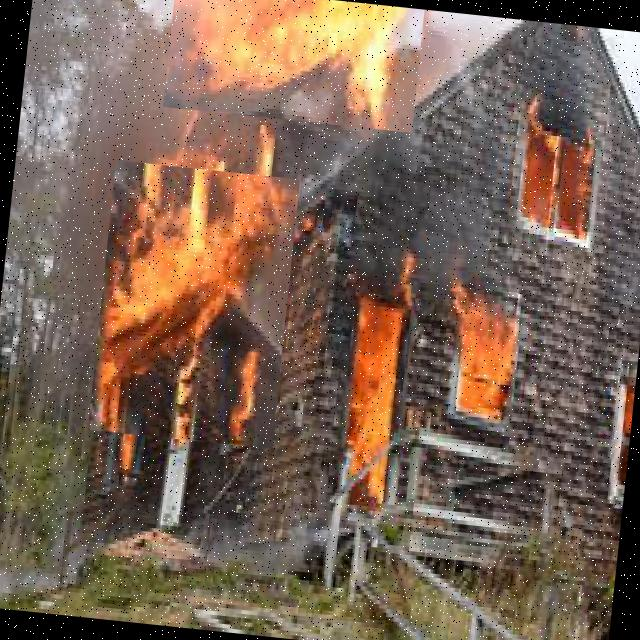fire: (88, 160, 300, 448), (162, 0, 424, 132), (324, 273, 417, 502), (438, 286, 522, 411)
